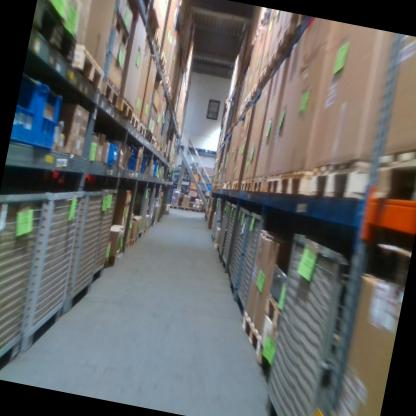pallet: (308, 149, 376, 208), (373, 137, 416, 205), (69, 43, 109, 90), (276, 163, 315, 203), (235, 311, 266, 359), (260, 289, 286, 333), (99, 81, 121, 106), (263, 171, 281, 200), (116, 96, 135, 120), (106, 243, 122, 267), (251, 173, 267, 195), (242, 175, 255, 193), (158, 49, 168, 70), (137, 120, 148, 138), (130, 113, 141, 131), (126, 233, 138, 247), (120, 237, 129, 253), (230, 177, 240, 191), (148, 134, 156, 149), (164, 76, 171, 91), (189, 205, 201, 213), (238, 178, 244, 193), (178, 204, 190, 211), (142, 226, 148, 236), (169, 203, 178, 209)
small_load_carrier: (10, 68, 45, 146), (30, 79, 67, 152), (122, 145, 137, 171), (138, 151, 148, 175), (150, 159, 159, 180), (131, 148, 138, 174)
stillage: (255, 227, 362, 416), (13, 181, 90, 360), (0, 182, 46, 381), (57, 185, 111, 328), (227, 210, 268, 329), (81, 184, 119, 300), (225, 207, 252, 300), (224, 205, 245, 281), (218, 202, 239, 272), (134, 184, 151, 241), (217, 200, 232, 258), (214, 198, 229, 250), (210, 199, 224, 246), (208, 197, 219, 242), (128, 0, 152, 12)
